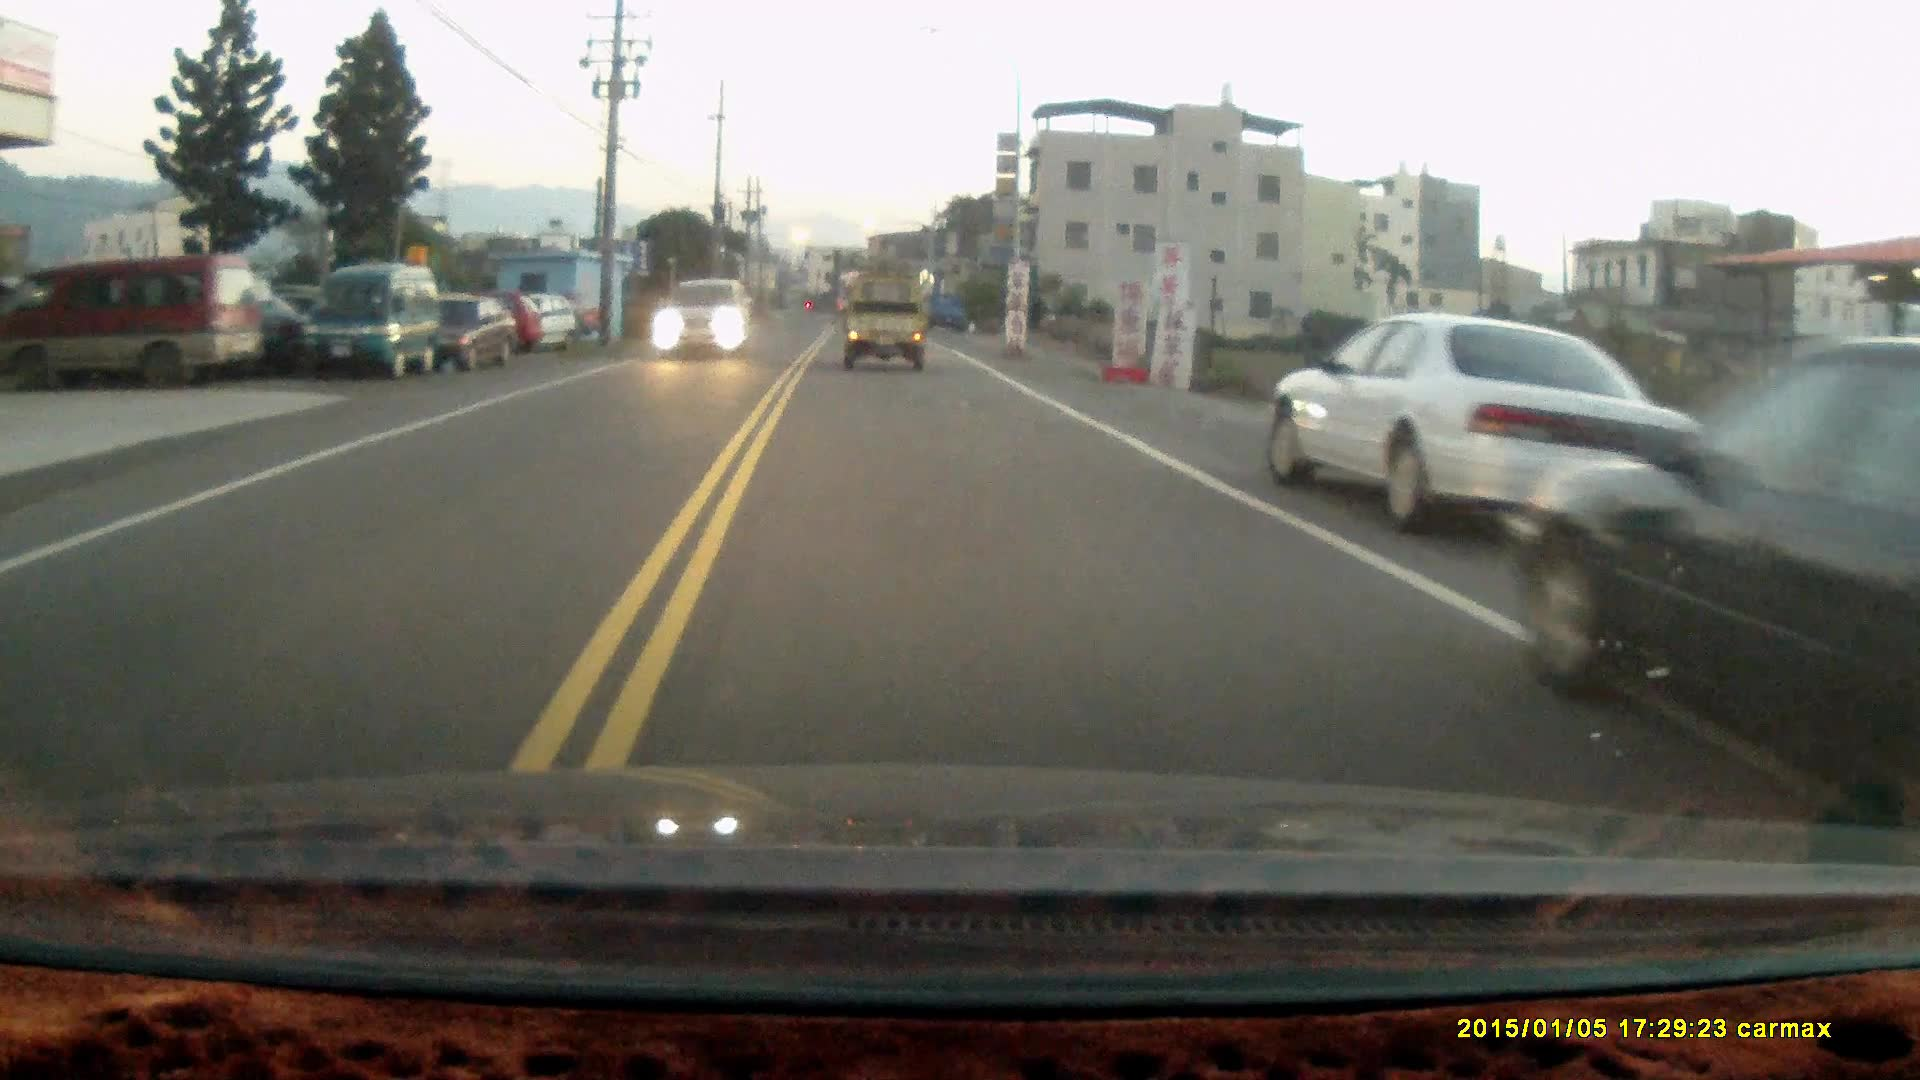vehicle: (1509, 335, 1919, 822), (1265, 315, 1681, 545), (1, 258, 272, 385), (301, 262, 444, 380), (653, 277, 758, 361), (844, 280, 930, 373), (447, 291, 520, 378), (508, 295, 578, 357)
